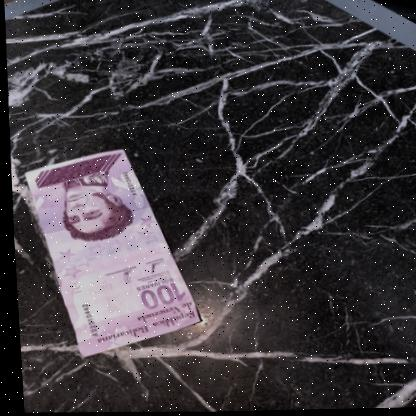one_hundred-front-vef: (16, 144, 202, 360)
